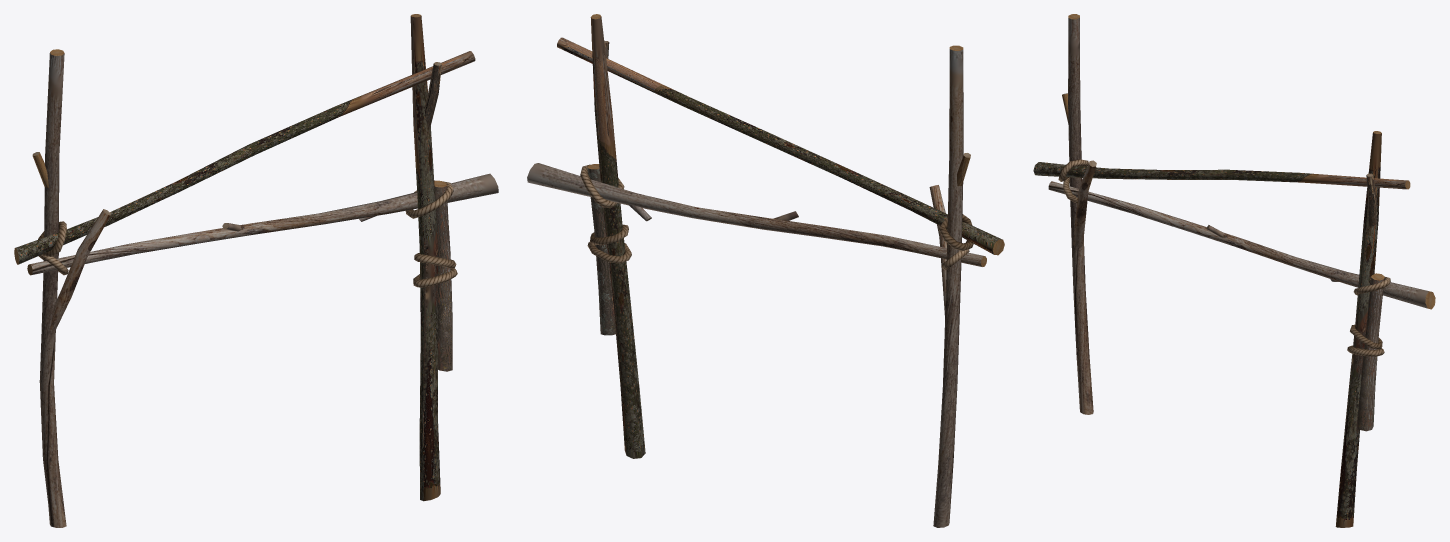
File: village_wood_fence_01.fbx
3 views of the same model, side by side, from view 1: azimuth 30°, elevation 25°; view 2: azimuth 150°, elevation 25°; view 3: azimuth 330°, elevation 25° (orthographic). The views are drawn at different scales.
Visible parts, largest first — view 1: village_wood_fence_01; view 2: village_wood_fence_01; view 3: village_wood_fence_01.
Boxes of the visible parts, x1,y1,x2,y2 form: village_wood_fence_01: (14,14,498,527); village_wood_fence_01: (527,14,1004,527); village_wood_fence_01: (1033,14,1435,527).
Bounding box in the file's own units: 265 × 273 × 39.36.
